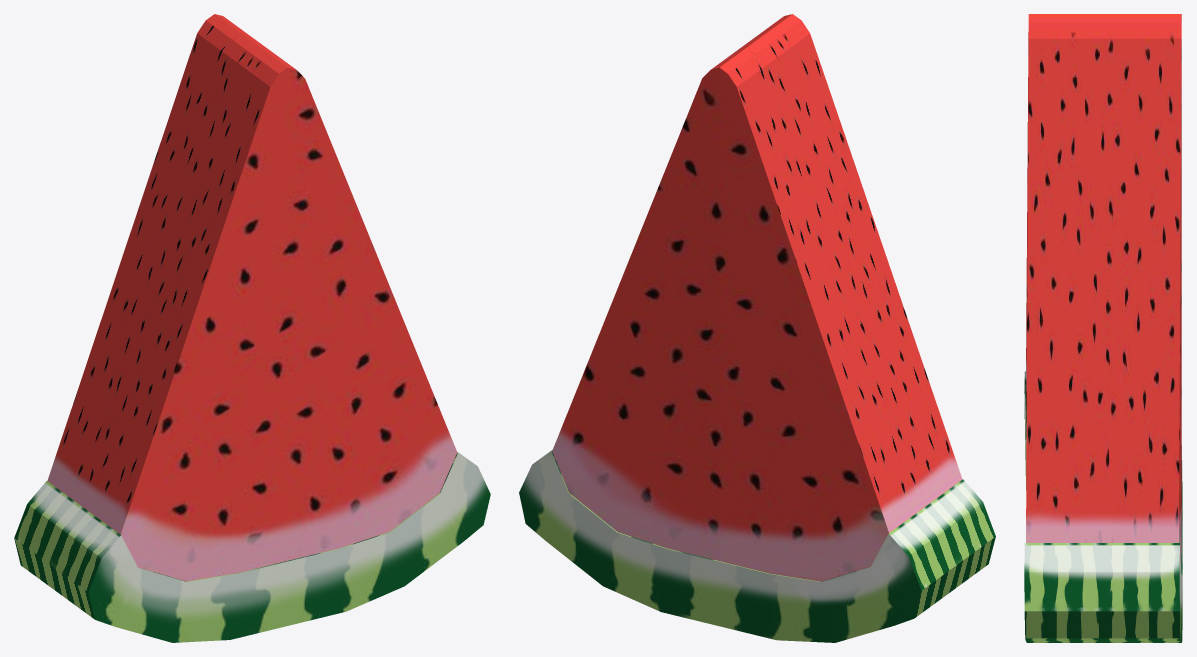
File: Watermelon.fbx
3 views of the same model, side by side, from view 1: azimuth 30°, elevation 25°; view 2: azimuth 150°, elevation 25°; view 3: azimuth 270°, elevation 25° (orthographic). The views are drawn at different scales.
Visible parts, largest first — view 1: Flesh, WaterMelon; view 2: Flesh, WaterMelon; view 3: Flesh, WaterMelon.
Boxes of the visible parts, bbox=[...] form: Flesh: bbox=[47, 14, 457, 581]; WaterMelon: bbox=[14, 451, 490, 642]; Flesh: bbox=[552, 14, 962, 581]; WaterMelon: bbox=[519, 450, 995, 642]; Flesh: bbox=[1026, 14, 1181, 570]; WaterMelon: bbox=[1024, 371, 1182, 642].
Bounding box in the file's own units: 17.35 × 22.99 × 5.67.
Materials: 2 (2 with a texture image).
